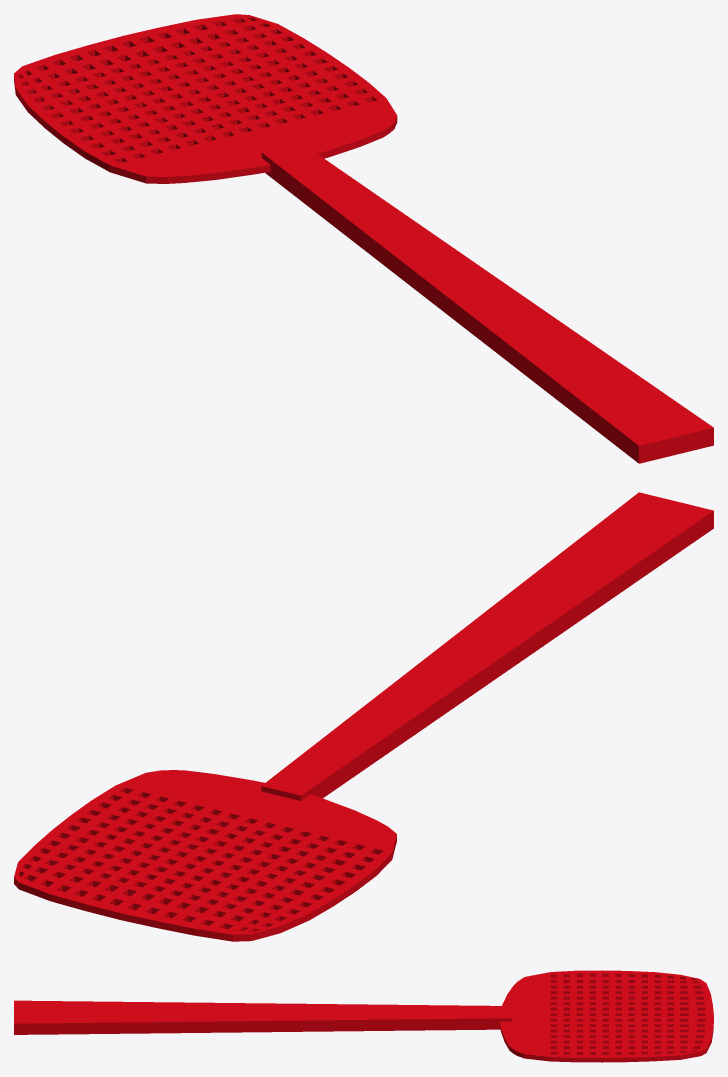
Rendered from fly_swatter.fbx.
3 renders of one model, top to bottom at view 1: azimuth 30°, elevation 25°; view 2: azimuth 150°, elevation 25°; view 3: azimuth 270°, elevation 25°, orthographic. The views are drawn at different scales.
Parts seen in each view (by area): view 1: Plane, Cube; view 2: Plane, Cube; view 3: Plane, Cube.
Part boxes in pixels (left/top/right/bottom): Plane: left=14, top=14, right=397, bottom=183; Cube: left=261, top=143, right=713, bottom=463; Plane: left=14, top=770, right=396, bottom=941; Cube: left=261, top=492, right=713, bottom=800; Plane: left=499, top=970, right=713, bottom=1062; Cube: left=14, top=1000, right=512, bottom=1034.
Size of the model in its own units: 200 by 11.99 by 674.
